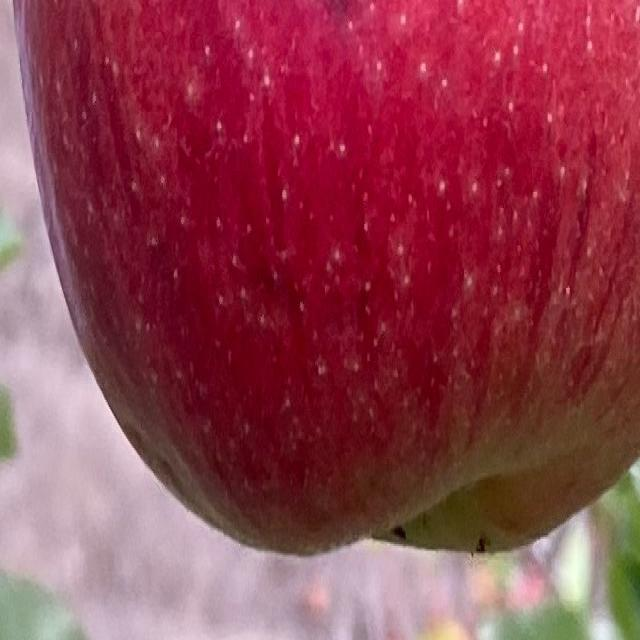Apples: (12, 0, 639, 555)
